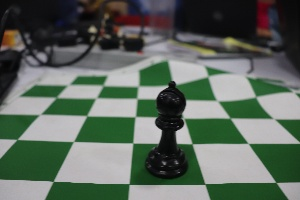black_bishop: (142, 67, 196, 186)
